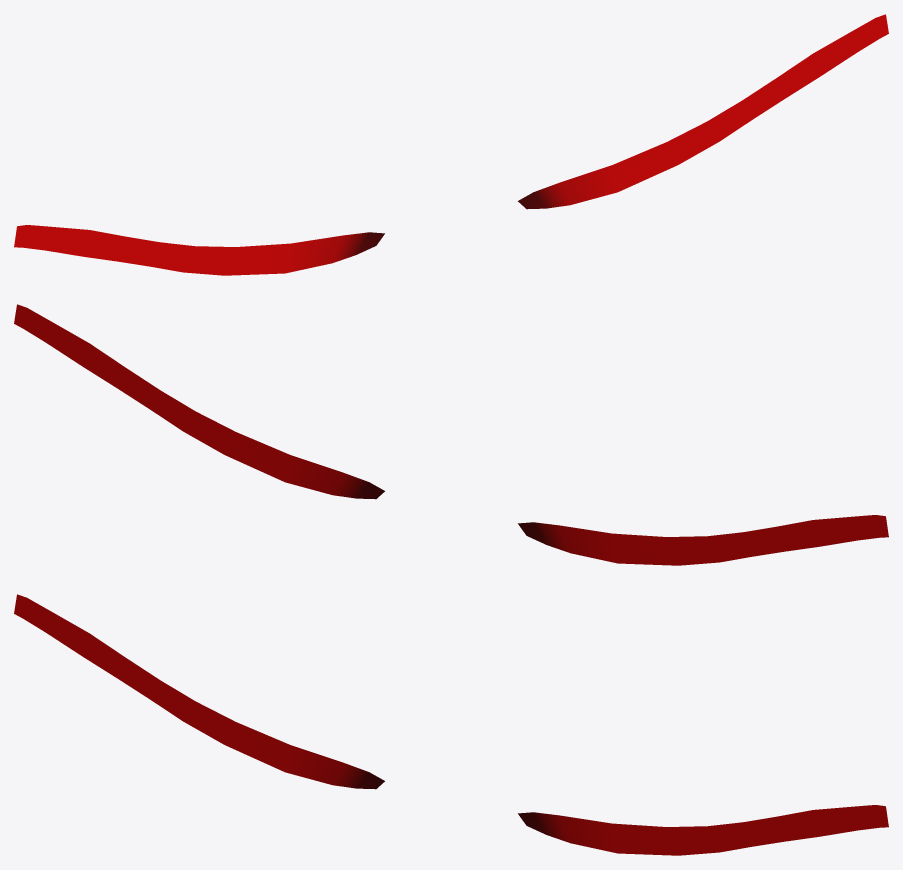
The model's file is frame165.fbx.
3 renders of one model, top to bottom at view 1: azimuth 30°, elevation 25°; view 2: azimuth 150°, elevation 25°; view 3: azimuth 330°, elevation 25°, orthographic.
Visible parts, largest first — view 1: MaterialLayer; view 2: MaterialLayer; view 3: MaterialLayer.
Part boxes in pixels (left/top/right/bottom): MaterialLayer: left=14, top=14, right=888, bottom=275; MaterialLayer: left=14, top=304, right=888, bottom=565; MaterialLayer: left=14, top=594, right=888, bottom=855.
Size of the model in its own units: 1508 by 188 by 0.
